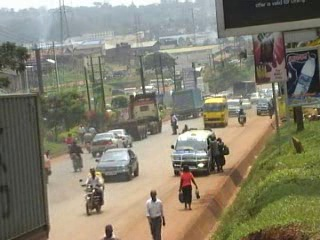Car: (94, 148, 141, 182), (87, 131, 124, 159), (106, 125, 134, 148), (247, 90, 260, 106), (239, 96, 251, 110)
Motorcycle: (78, 165, 106, 215), (65, 142, 87, 175), (79, 130, 93, 153), (236, 107, 248, 128), (178, 125, 191, 139)
